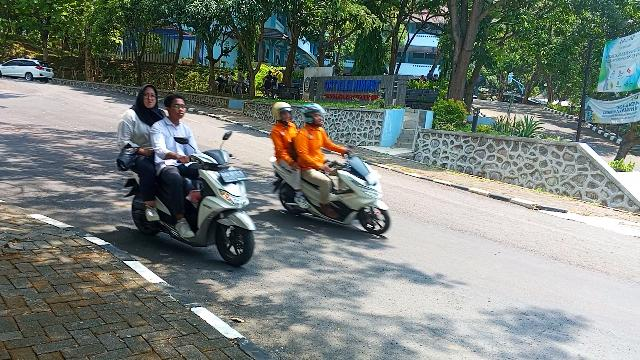helm: (301, 104, 328, 128), (272, 102, 294, 125)
motor: (119, 130, 258, 271), (269, 143, 393, 238)
non-helm: (166, 95, 189, 121), (139, 85, 159, 111)
